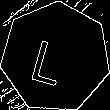L_N: (34, 29, 78, 86)
